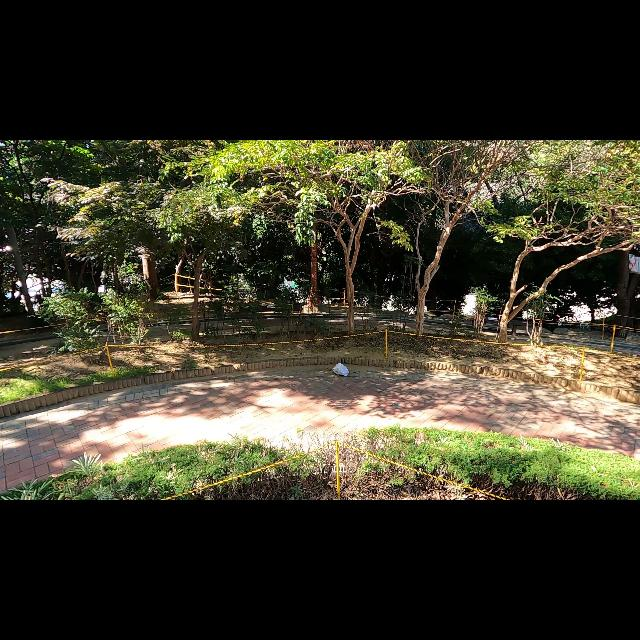trash: (328, 362, 352, 378)
